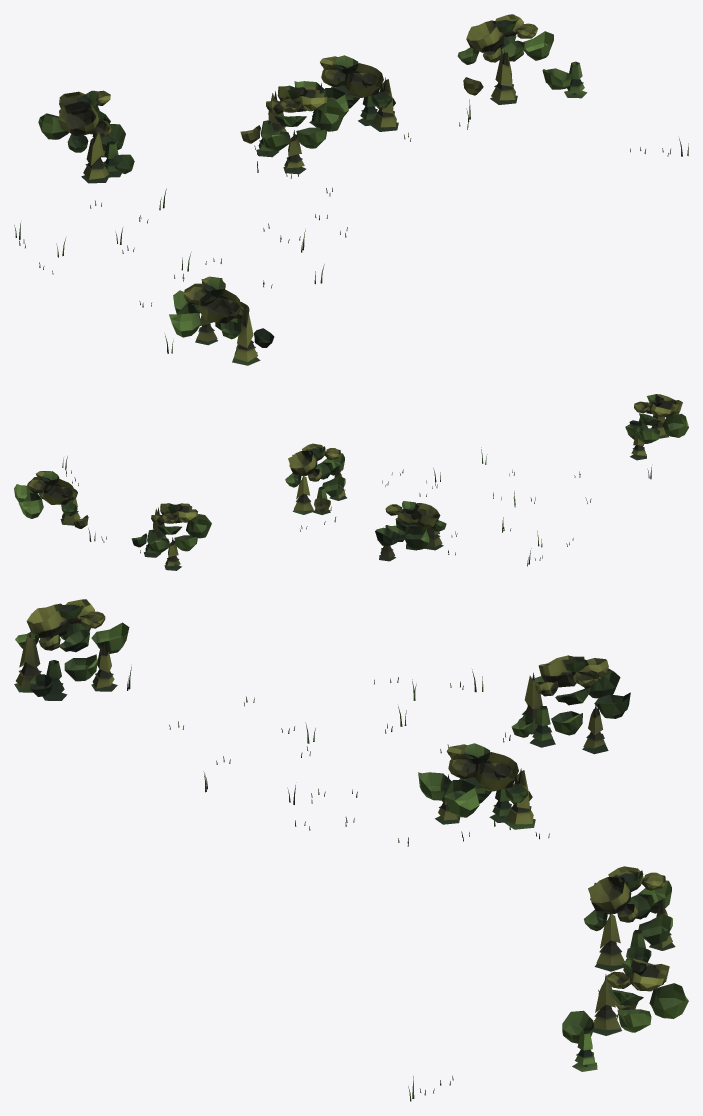
Rendered from Wood_Plant_01.FBX.
The picture shows the model from 3 angles, top to bottom: view 1: azimuth 30°, elevation 25°; view 2: azimuth 150°, elevation 25°; view 3: azimuth 270°, elevation 25°; orthographic projection. The views are drawn at different scales.
Visible parts, largest first — view 1: Wood_Plant_01; view 2: Wood_Plant_01; view 3: Wood_Plant_01.
Part boxes in pixels (<box>): Wood_Plant_01: <box>14,14,688,365</box>; Wood_Plant_01: <box>14,394,688,570</box>; Wood_Plant_01: <box>14,599,688,1101</box>.
Size of the model in its own units: 35.3 by 6.91 by 27.39.
